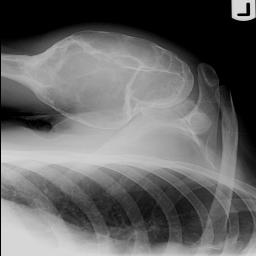cancer: (9, 31, 192, 128)
